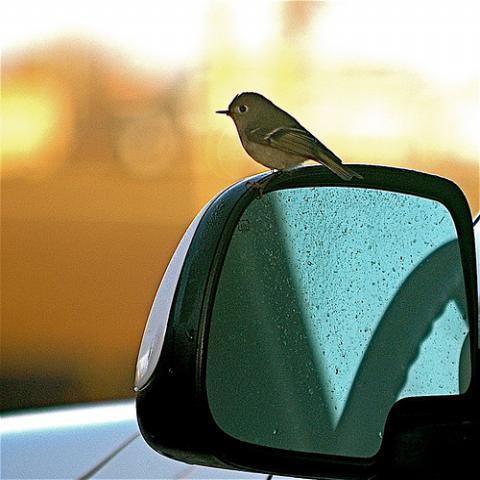car: (0, 161, 479, 479)
